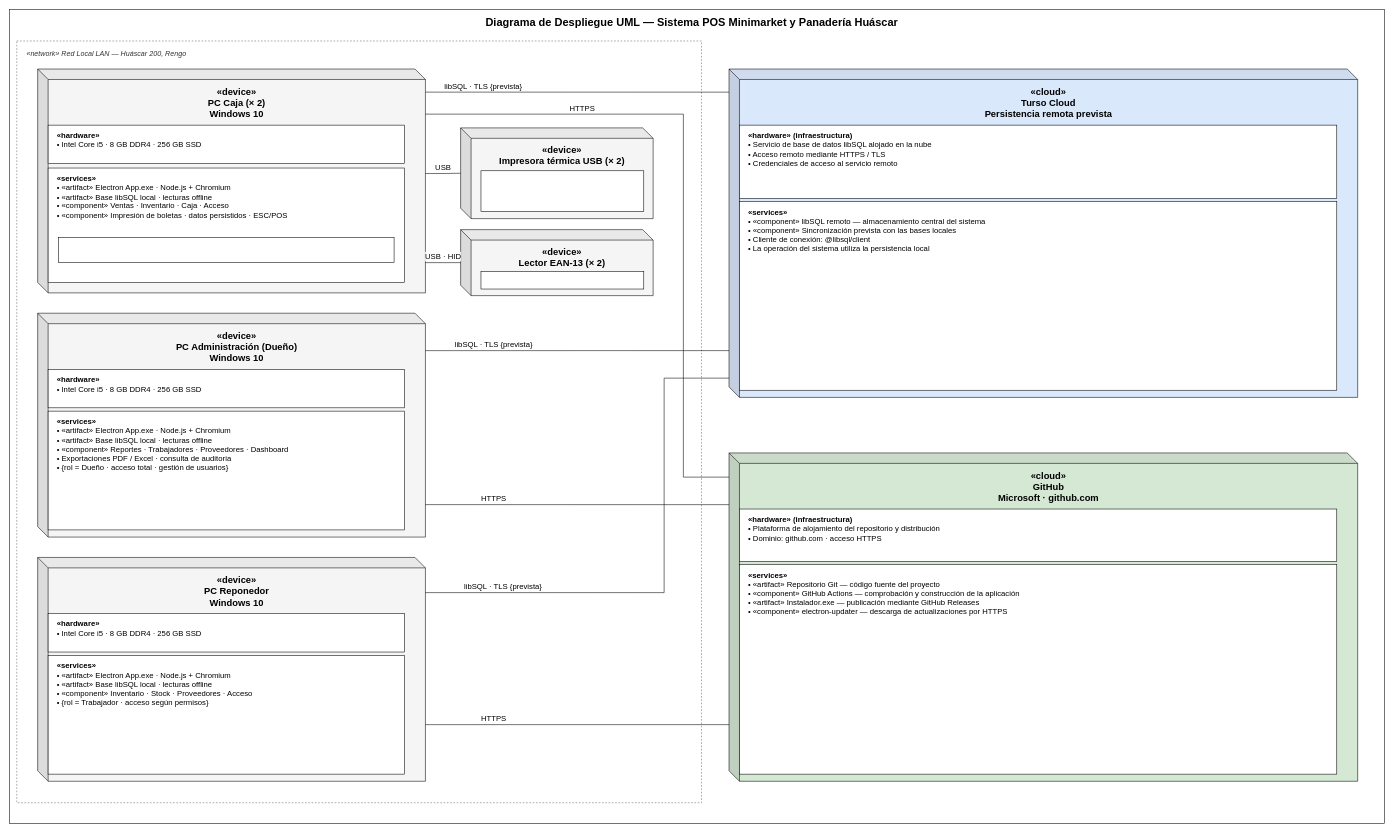
This 1394x833 diagram has some shape labels left out. Here are the shapes that lost their labels. From the top down, the centre of each, then its label:
At pixel 562 190: "{interfaz = USB} {protocolo = ESC/POS} {ancho de papel = 80 mm}".
At pixel 226 250: "«service» Cola de impresión de Windows Trabajos RAW · envío de comandos ESC/POS".
At pixel 562 280: "{interfaz = USB · modo HID}".
